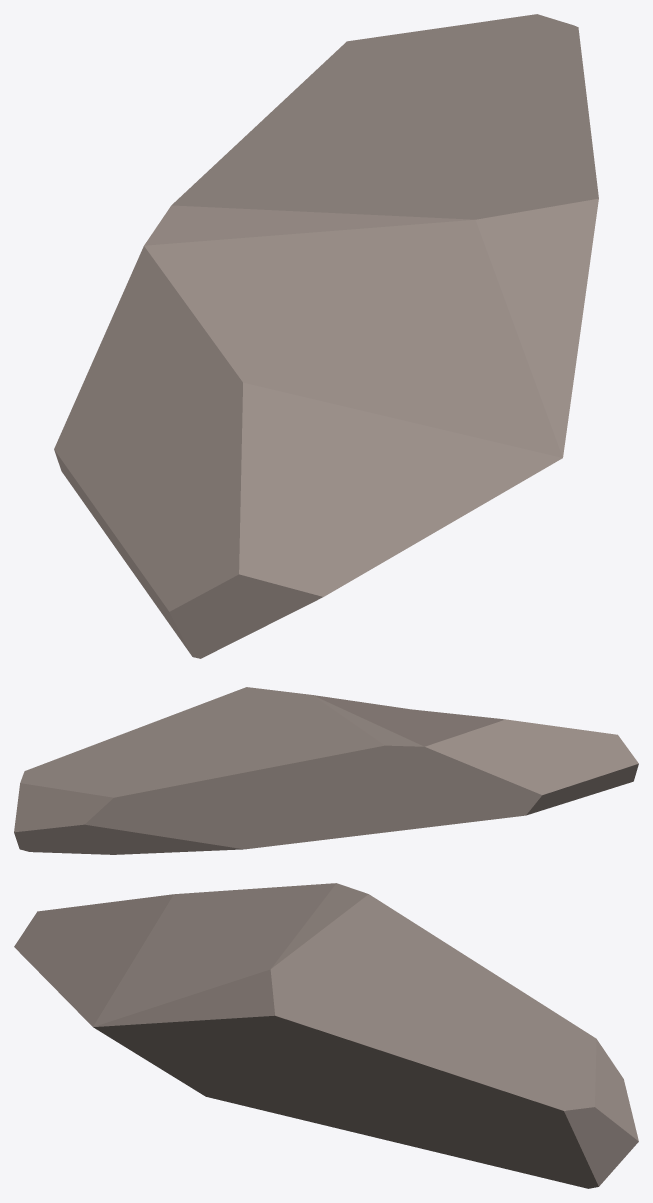
Rendered from Rock_Sharp_m_17.fbx.
3 views of the same model, one above another, from view 1: azimuth 30°, elevation 25°; view 2: azimuth 150°, elevation 25°; view 3: azimuth 270°, elevation 25° (orthographic). The views are drawn at different scales.
Parts seen in each view (by area): view 1: Rock_Sharp_m_17; view 2: Rock_Sharp_m_17; view 3: Rock_Sharp_m_17.
Boxes of the visible parts, box(x1,y1,x2,y2) form: Rock_Sharp_m_17: box(54, 14, 598, 658); Rock_Sharp_m_17: box(14, 687, 638, 854); Rock_Sharp_m_17: box(14, 883, 638, 1188).
Size of the model in its own units: 137 by 34.15 by 146.
